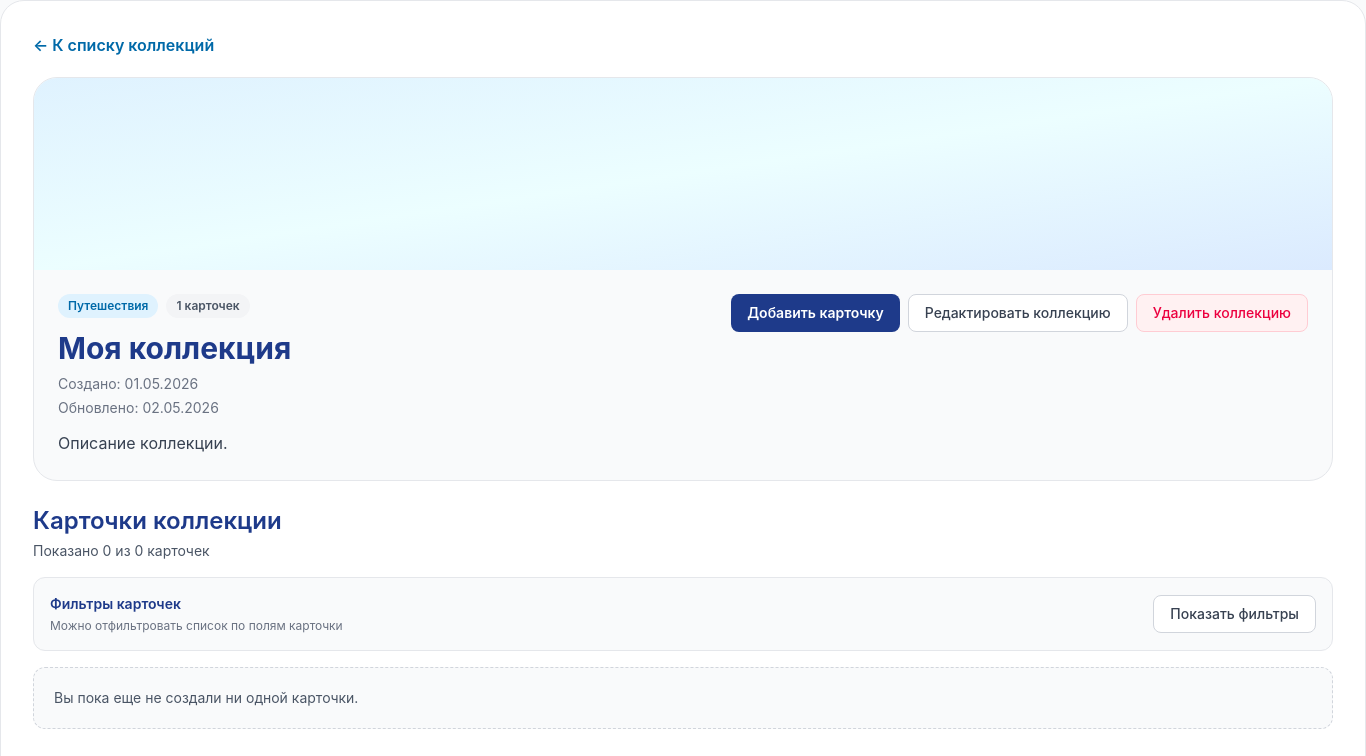
Test: CollectionDetailPage › shows collection submit error inside modal
Expected: the heading "Моя коллекция" is shown, x1=58 y1=330 x2=291 y2=366
Click the button "Редактировать коллекцию". click: (1018, 313)
box: x1=908 y1=294 x2=1128 y2=332
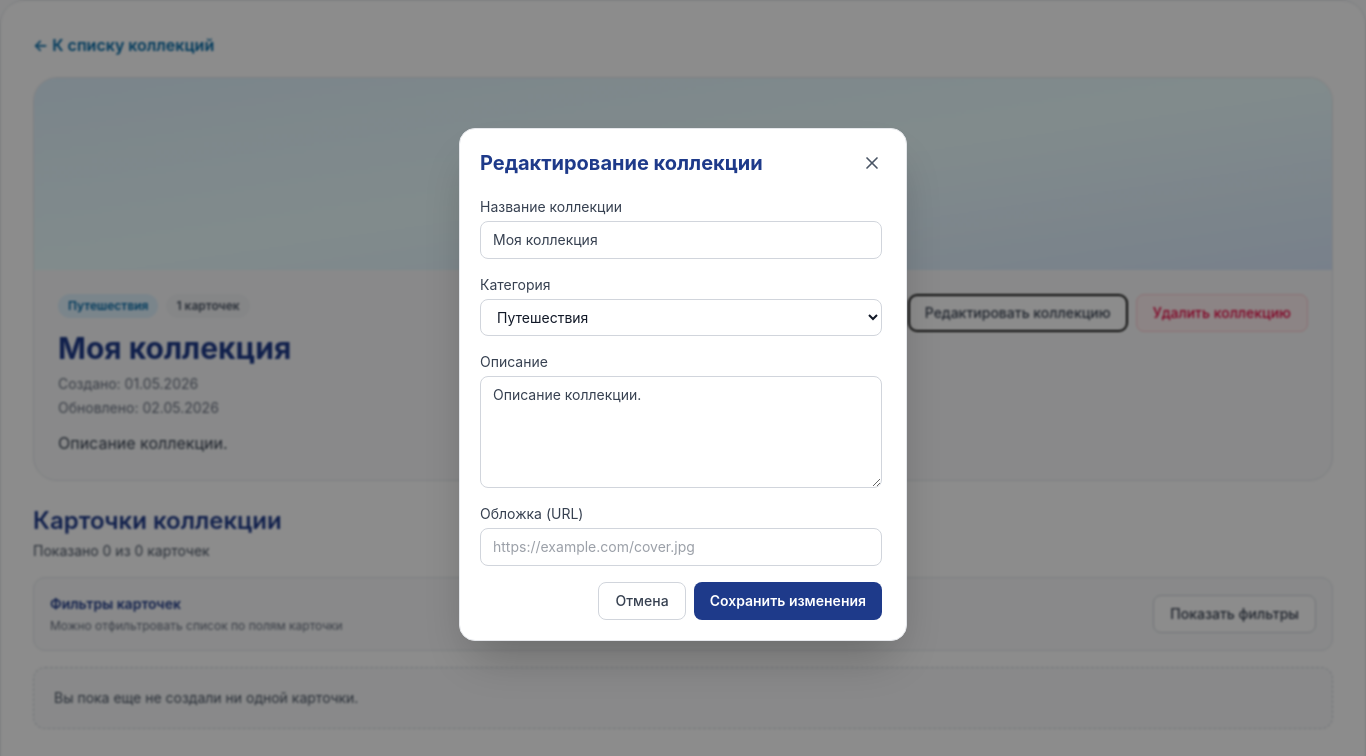
Replace the text in the field labelled "Название коллекции" with "Обновленная коллекция". click: (681, 240)
box: x1=480 y1=220 x2=882 y2=258
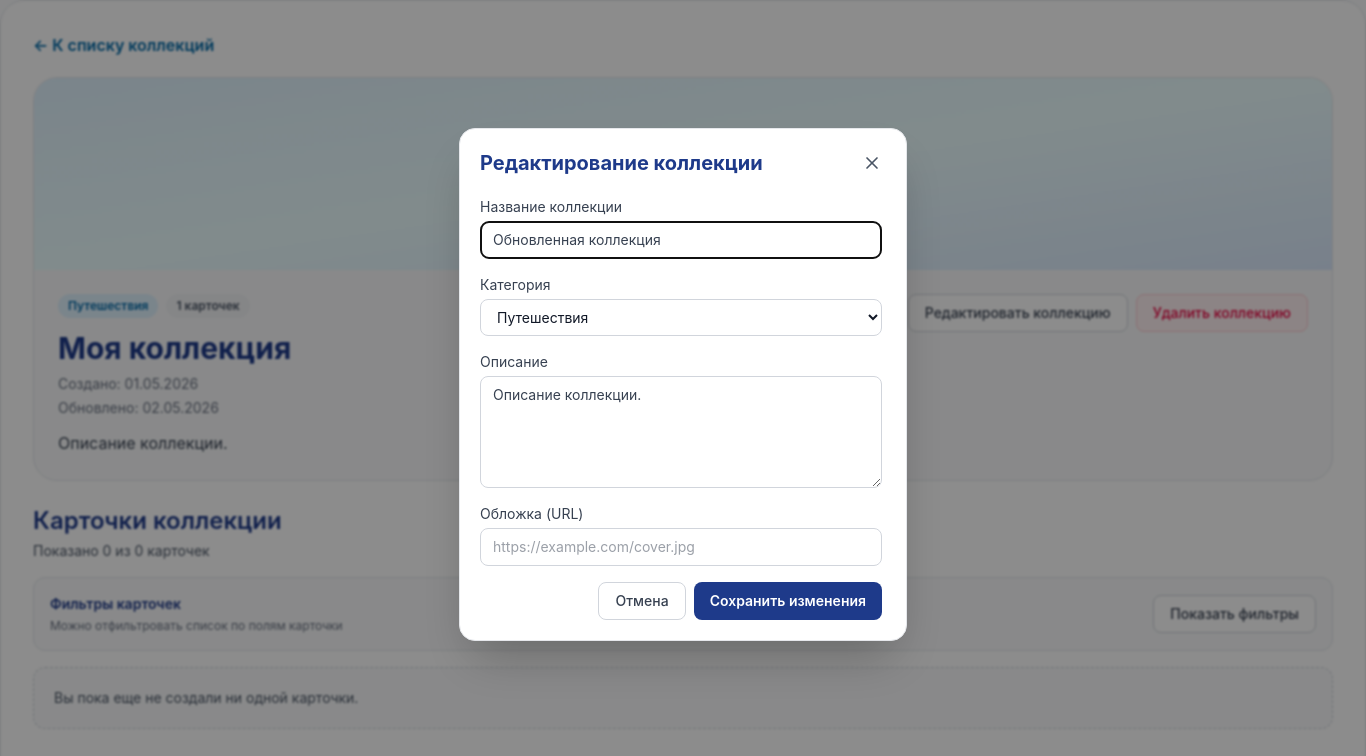
Click the button "Сохранить изменения". click: (788, 600)
box: x1=694 y1=582 x2=882 y2=620
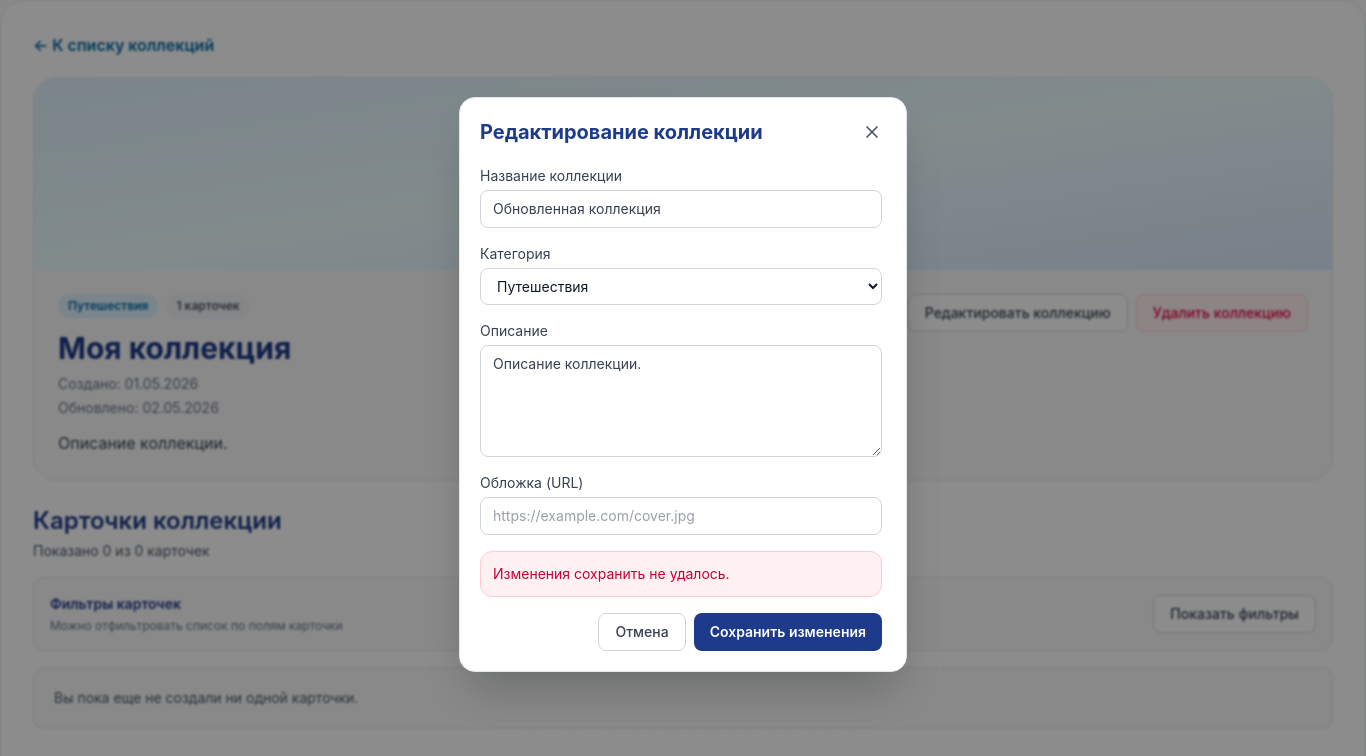
Expected: the text "Изменения сохранить не удалось." is shown, x1=480 y1=550 x2=882 y2=596
